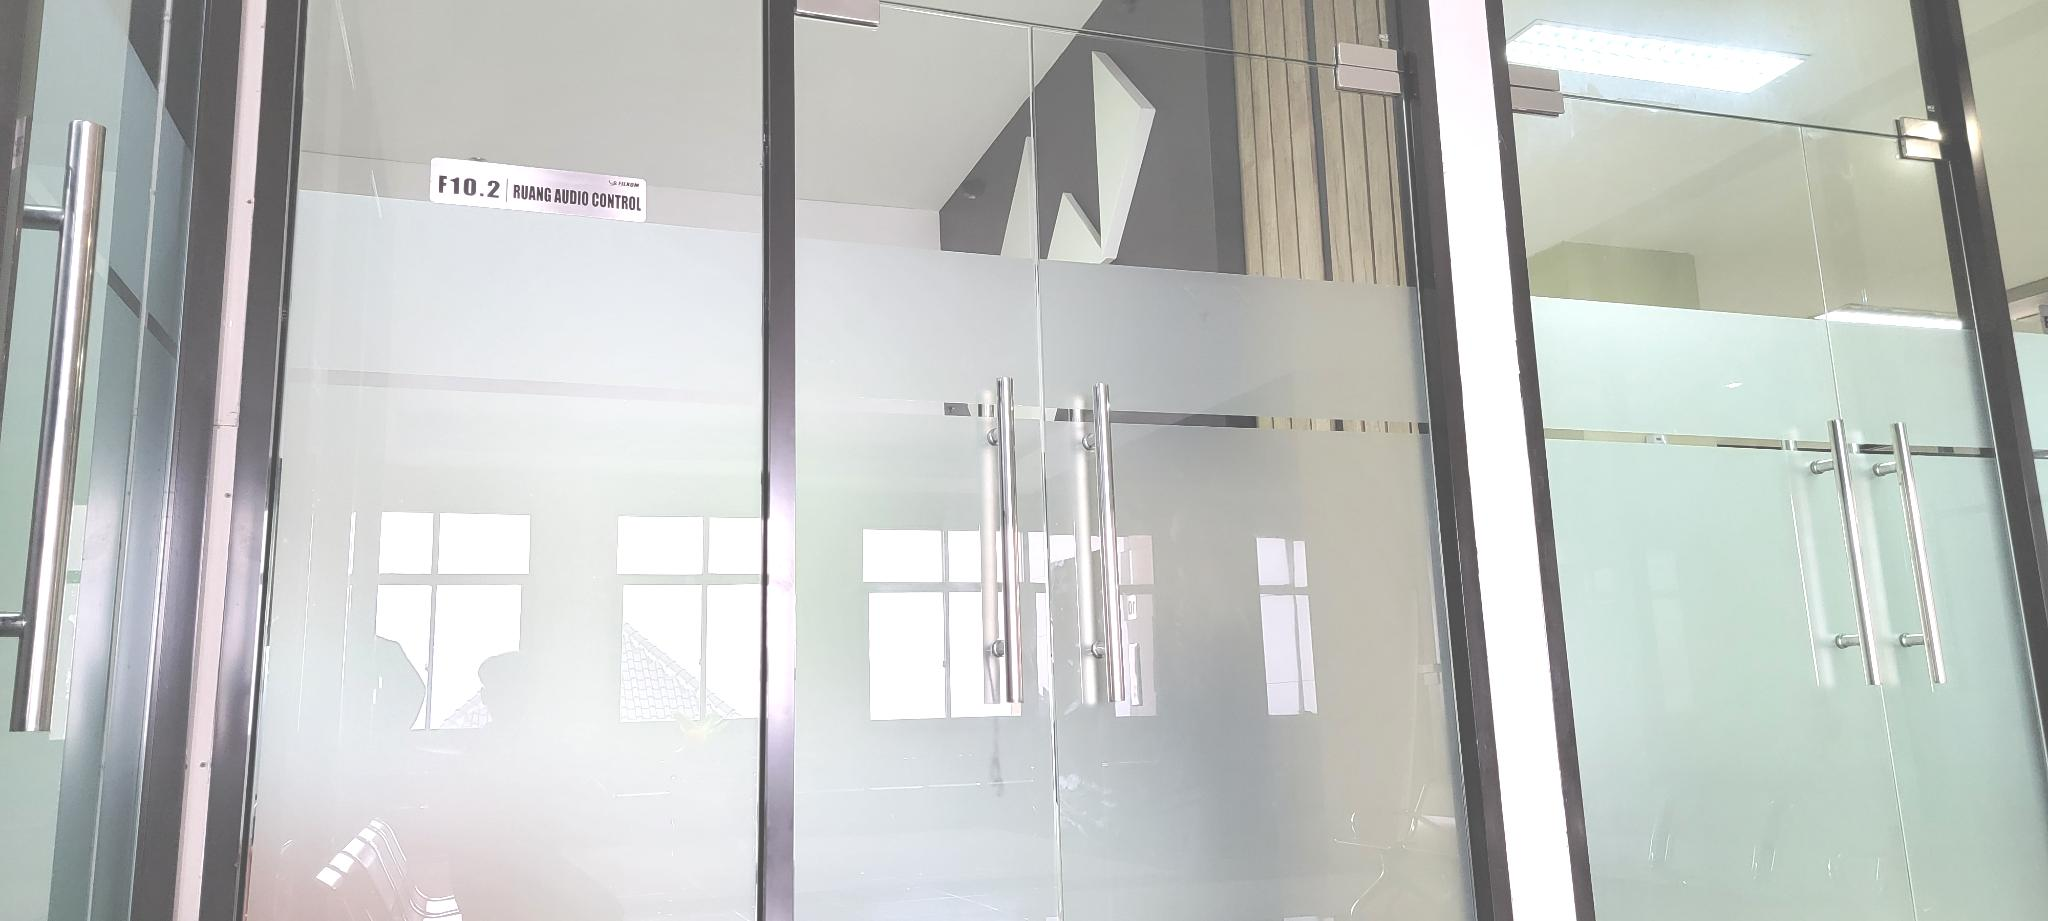plate: (428, 153, 648, 225)
